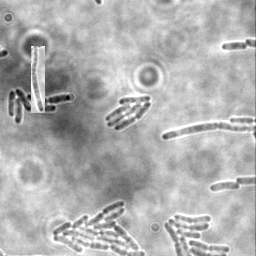Dividing: (161, 123, 255, 142), (31, 46, 45, 113), (221, 41, 248, 52)
Microcolony: (51, 200, 147, 255), (162, 212, 231, 255), (8, 89, 72, 126), (106, 96, 153, 132), (208, 182, 240, 193)
